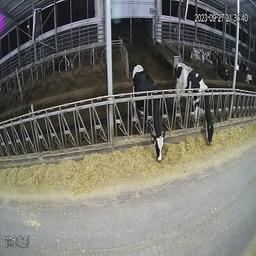cow: (127, 58, 168, 173), (174, 60, 218, 158), (57, 50, 76, 78), (217, 55, 233, 84), (240, 60, 254, 92), (205, 43, 217, 67), (193, 40, 205, 64)
